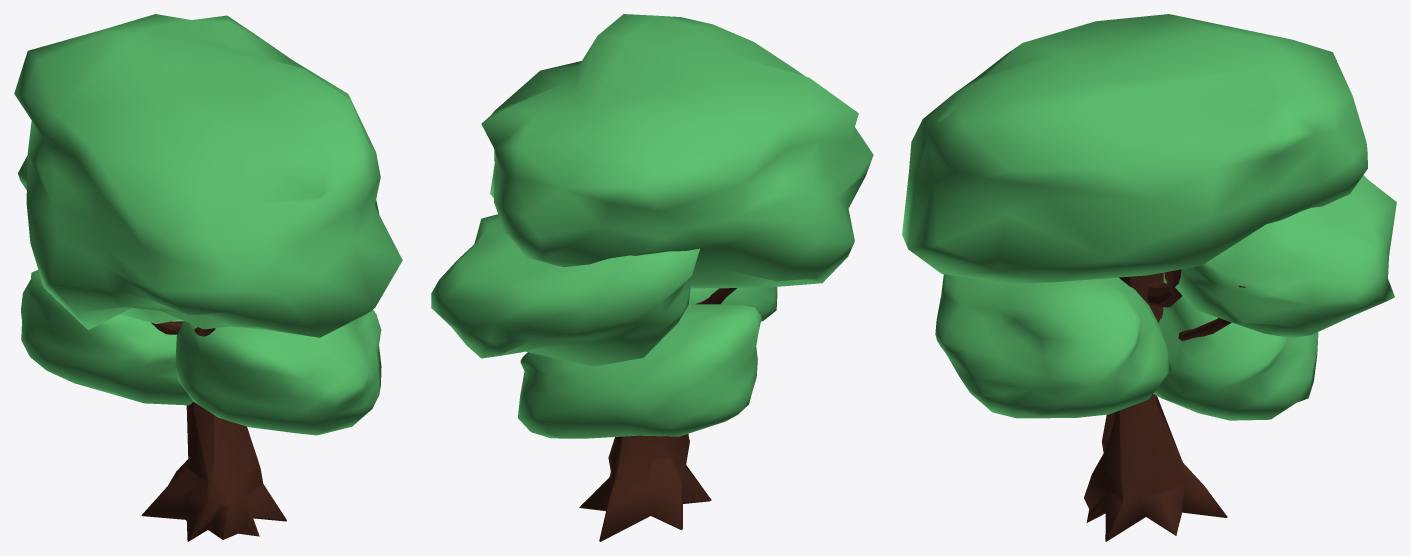
The model's file is cedarTree.fbx.
3 views of the same model, side by side, from view 1: azimuth 30°, elevation 25°; view 2: azimuth 150°, elevation 25°; view 3: azimuth 270°, elevation 25° (orthographic).
Parts seen in each view (by area): view 1: Plane.001, Trunk.002; view 2: Plane.001, Trunk.002; view 3: Plane.001, Trunk.002, Cylinder.001.
Part boxes in pixels (box(x1,y1,x2,y2)): Plane.001: box(14, 14, 402, 435); Trunk.002: box(141, 401, 286, 541); Plane.001: box(431, 14, 873, 438); Trunk.002: box(579, 434, 711, 541); Plane.001: box(902, 14, 1396, 420); Trunk.002: box(1084, 272, 1227, 541); Cylinder.001: box(1147, 269, 1245, 340).
Size of the model in its own units: 281 by 378 by 368.
